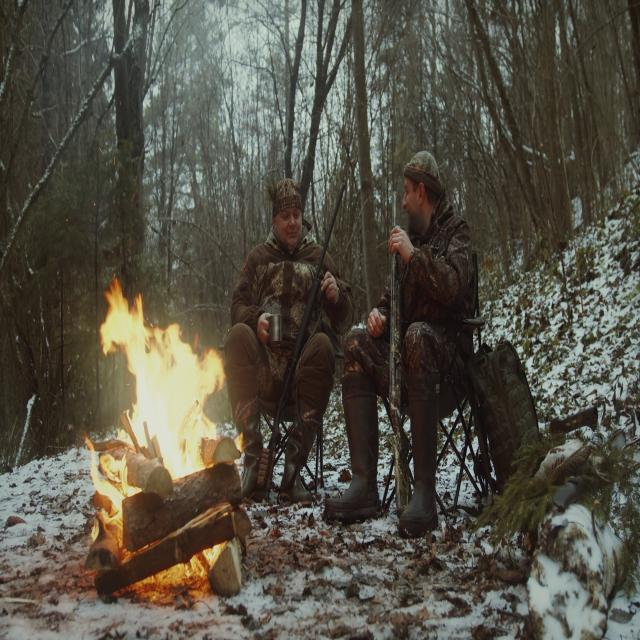Fire: (69, 256, 242, 580)
